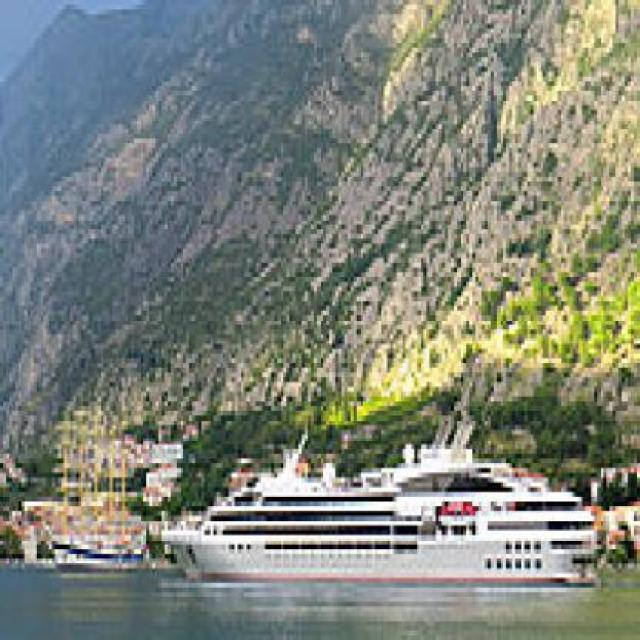cruise: (154, 436, 617, 599)
